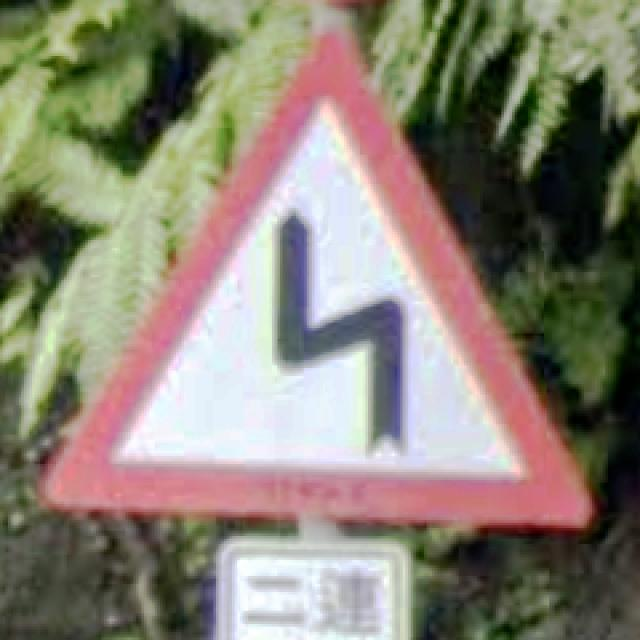doublebendleft: (45, 19, 592, 533)
